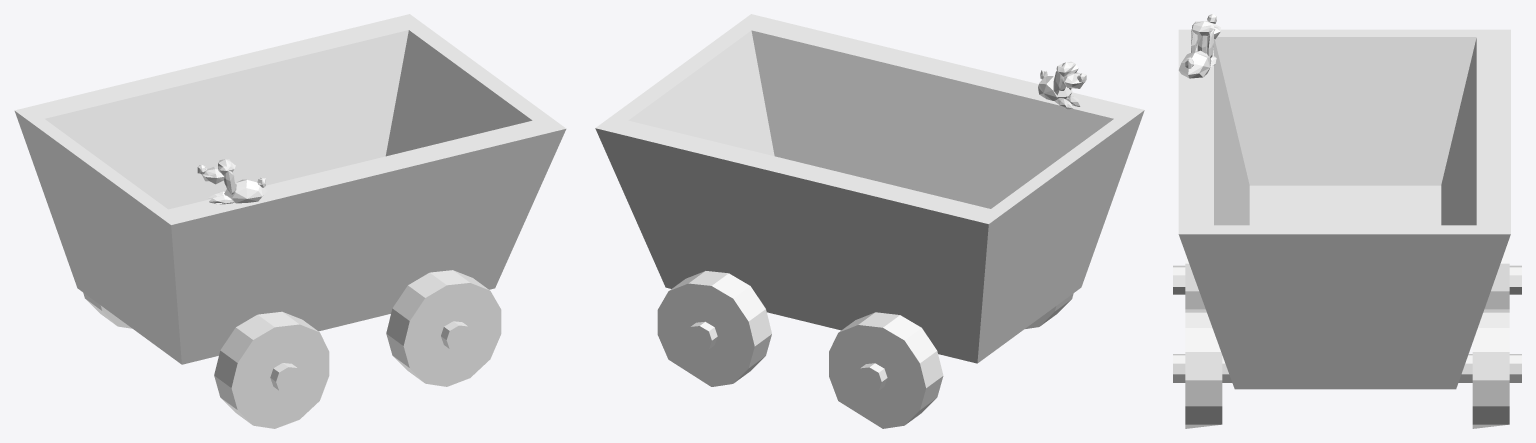
Rendered from MineMad.glb.
3 views of the same model, side by side, from view 1: azimuth 30°, elevation 25°; view 2: azimuth 150°, elevation 25°; view 3: azimuth 270°, elevation 25° (orthographic). The views are drawn at different scales.
Parts seen in each view (by area): view 1: MineMad; view 2: MineMad; view 3: MineMad.
Part boxes in pixels (x1,y1,x2,y2): MineMad: (14,14,566,428); MineMad: (595,14,1144,428); MineMad: (1173,14,1521,428).
Size of the model in its own units: 263 by 173 by 189.
Materials: 1 (1 with a texture image).
